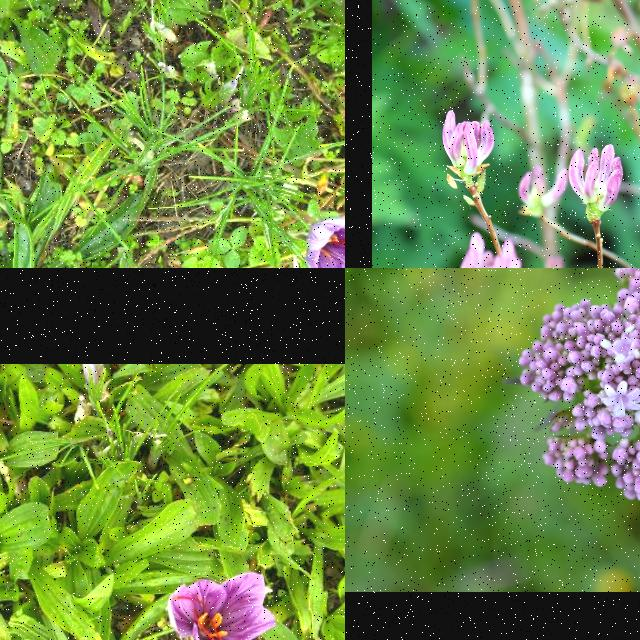flower: (168, 573, 277, 640), (305, 217, 345, 268)
